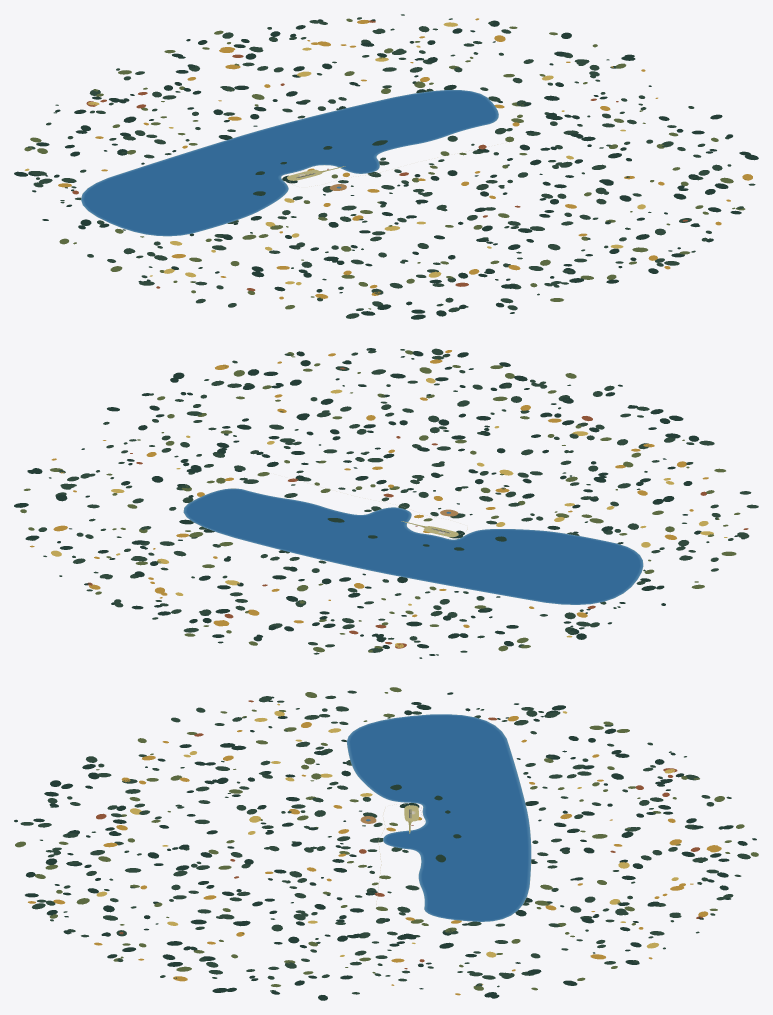
Rendered from land.glb.
The picture shows the model from 3 angles, top to bottom: view 1: azimuth 30°, elevation 25°; view 2: azimuth 150°, elevation 25°; view 3: azimuth 270°, elevation 25°; orthographic projection. The views are drawn at different scales.
Parts seen in each view (by area): view 1: decal-lake, decal-canopy-patches, decal-lake-shore; view 2: decal-lake, decal-canopy-patches, decal-lake-shore; view 3: decal-canopy-patches, decal-lake, decal-lake-shore.
Part boxes in pixels (x1,y1,x2,y2): decal-lake: [84, 91, 495, 234]; decal-canopy-patches: [14, 14, 758, 319]; decal-lake-shore: [81, 90, 498, 236]; decal-lake: [187, 490, 639, 603]; decal-canopy-patches: [14, 348, 758, 658]; decal-lake-shore: [183, 488, 643, 604]; decal-canopy-patches: [14, 687, 758, 1000]; decal-lake: [350, 715, 527, 920]; decal-lake-shore: [346, 714, 531, 921].
Size of the model in its own units: 101859 by 155 by 102218.
